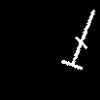double_crochet: (61, 10, 94, 68)
